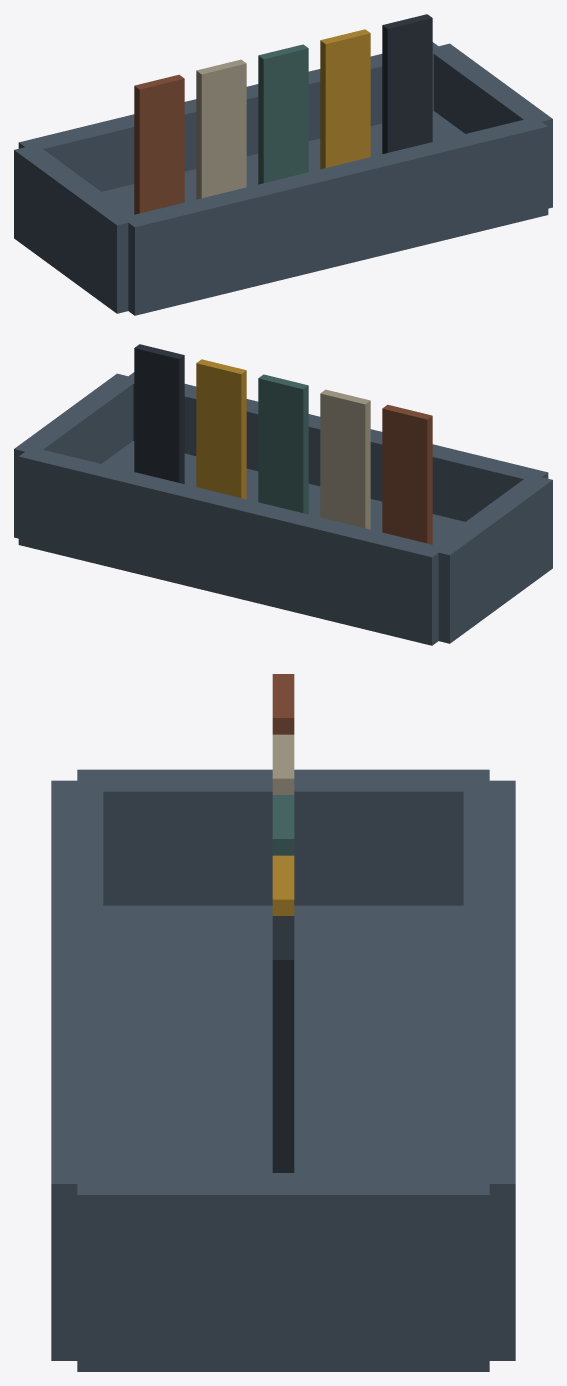
File: L-36_sort_labels.glb
3 renders of one model, top to bottom at view 1: azimuth 30°, elevation 25°; view 2: azimuth 150°, elevation 25°; view 3: azimuth 270°, elevation 25°, orthographic. The views are drawn at different scales.
Visible parts, largest first — view 1: L-36_sort_labels; view 2: L-36_sort_labels; view 3: L-36_sort_labels.
Part boxes in pixels (box(x1,y1,x2,y2)): L-36_sort_labels: box(14, 14, 552, 315); L-36_sort_labels: box(14, 344, 552, 645); L-36_sort_labels: box(51, 674, 515, 1371).
Size of the model in its own units: 0.232 by 0.087 by 0.107.
